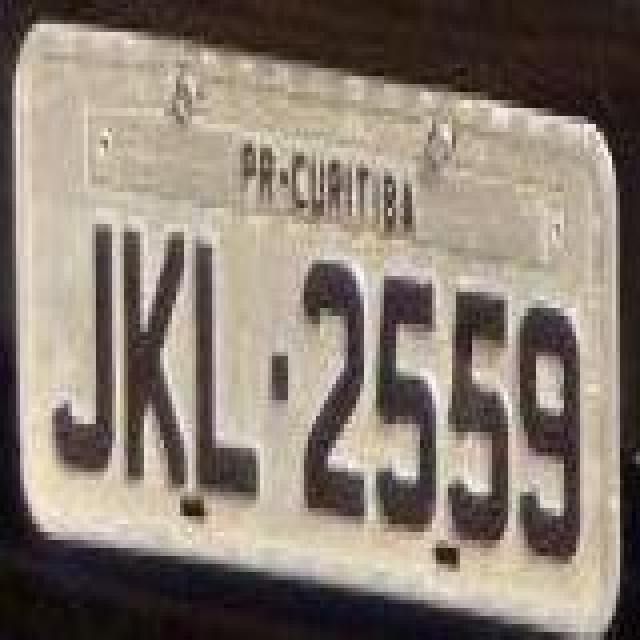2: (302, 256, 370, 528)
5: (376, 268, 440, 532), (448, 284, 512, 548)
9: (520, 304, 584, 568)
J: (52, 212, 116, 476)
K: (124, 220, 188, 484)
L: (192, 236, 256, 500)
